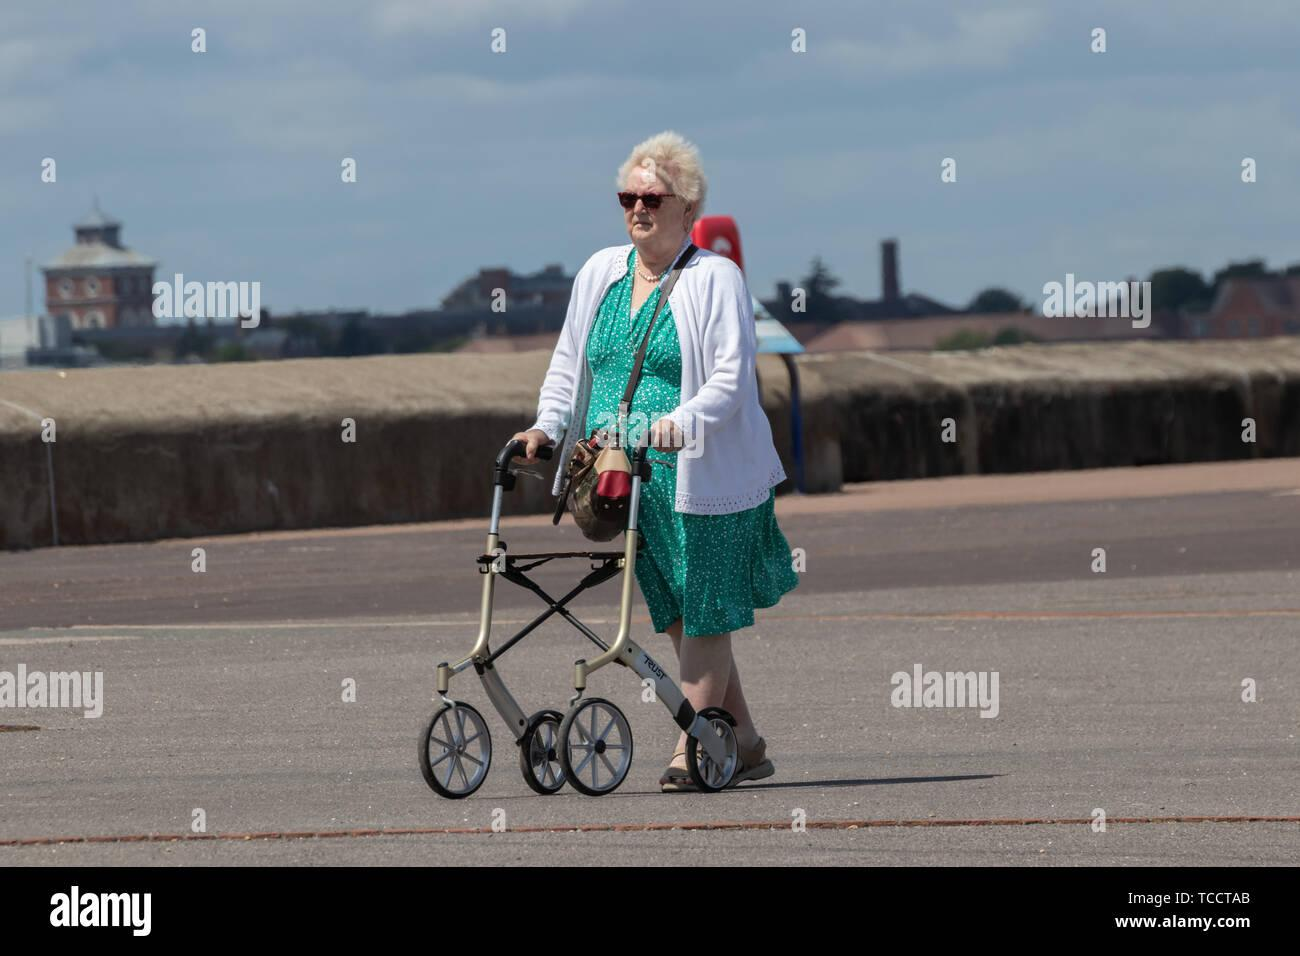walking_frame: (417, 129, 800, 800)
